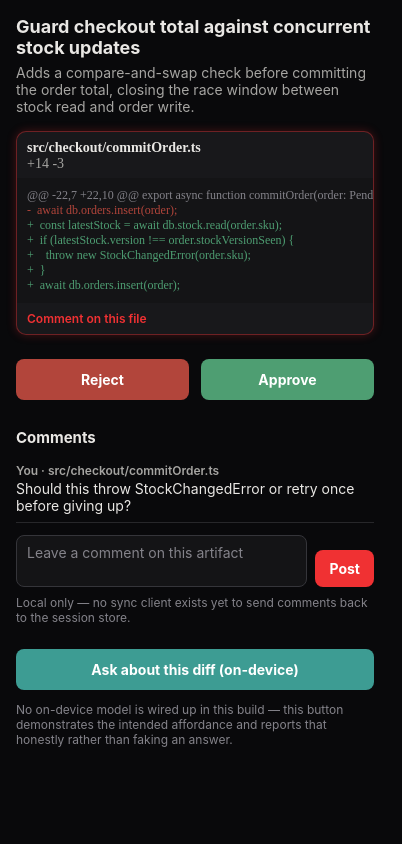
Test case: ArtifactReviewScreen › posting a comment while a file is targeted shows the targeted file path
Expected: the text "Guard checkout total against concurrent stock updates" is shown, [16,16,374,58]
Click the text "Comment on this file" at (87, 318), box [27,311,147,326]
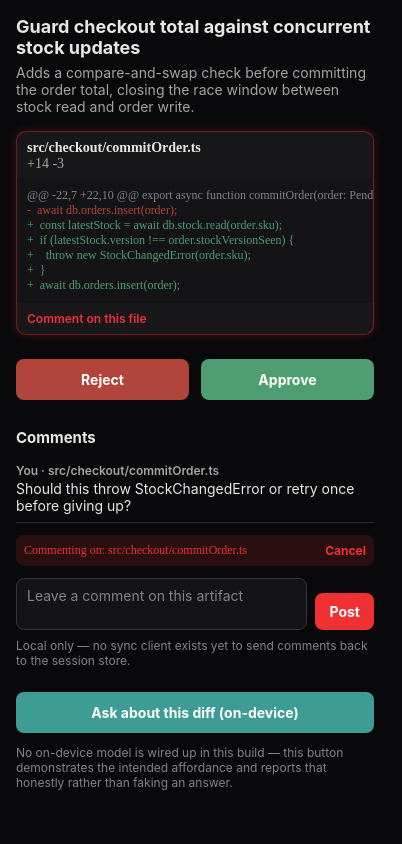
Type "Looks good but double check the retry path" into the text box with placeholder "Leave a comment on this artifact" at (162, 604), box [16,578,308,630]
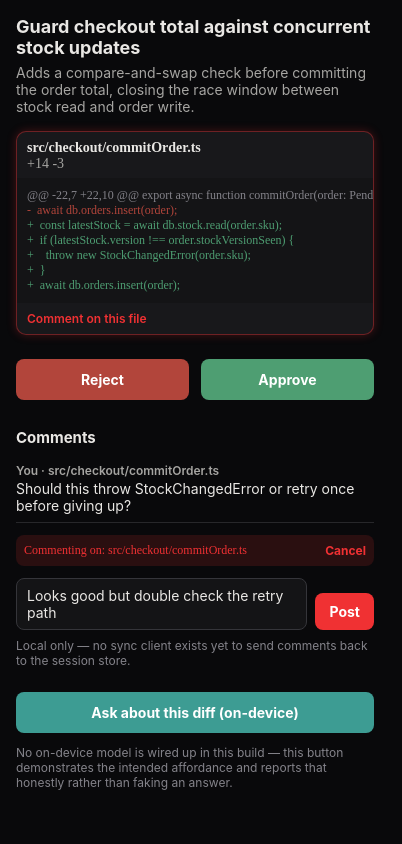
Click the text "Post" at (345, 612), box [330,603,360,620]
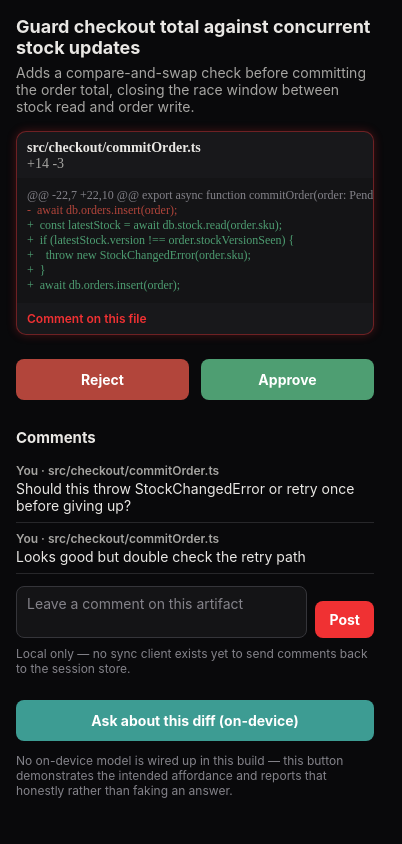
Expected: the text "Looks good but double check the retry path" is shown, [16,548,306,565]
